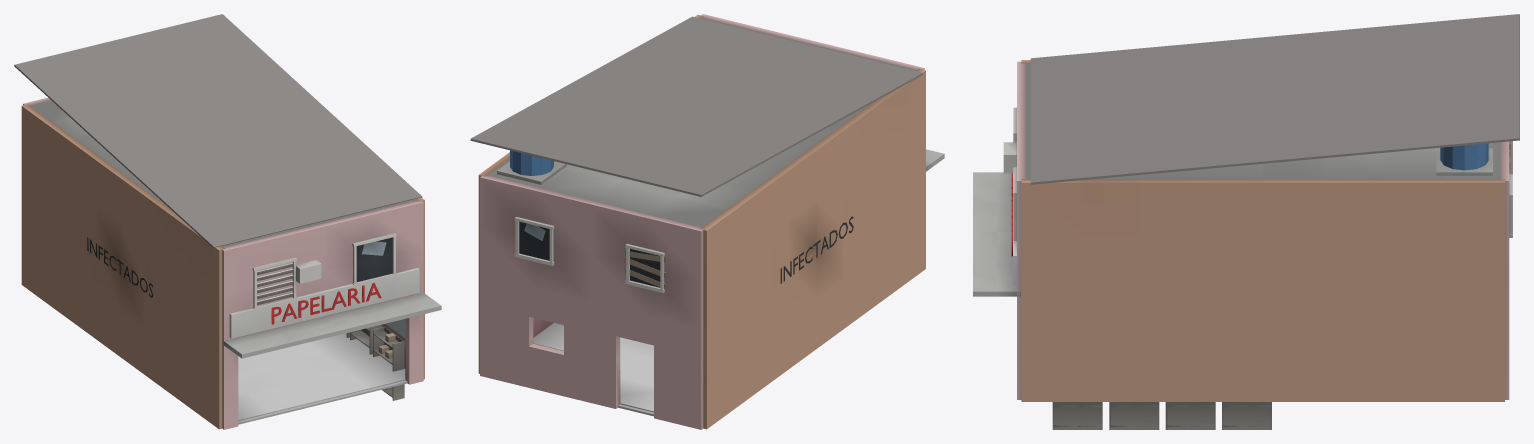
File: sobrado_14.glb
3 renders of one model, left to right at view 1: azimuth 30°, elevation 25°; view 2: azimuth 150°, elevation 25°; view 3: azimuth 270°, elevation 25°, orthographic. The views are drawn at different scales.
Parts seen in each view (by area): view 1: longe, ext, dentro, detalhe; view 2: ext, longe, detalhe, dentro; view 3: ext, longe, dentro, detalhe.
Part boxes in pixels (bbox=[...]): longe: bbox=[14, 14, 441, 358]; ext: bbox=[21, 97, 424, 429]; dentro: bbox=[238, 319, 407, 424]; detalhe: bbox=[87, 233, 396, 324]; ext: bbox=[478, 14, 925, 429]; longe: bbox=[470, 16, 944, 228]; detalhe: bbox=[497, 150, 853, 292]; dentro: bbox=[533, 318, 653, 416]; ext: bbox=[1017, 60, 1509, 401]; longe: bbox=[973, 14, 1519, 296]; dentro: bbox=[1052, 402, 1271, 429]; detalhe: bbox=[1003, 107, 1512, 256].
Size of what is drawn, in the model's own units: 7.3 by 8.13 by 13.57.
